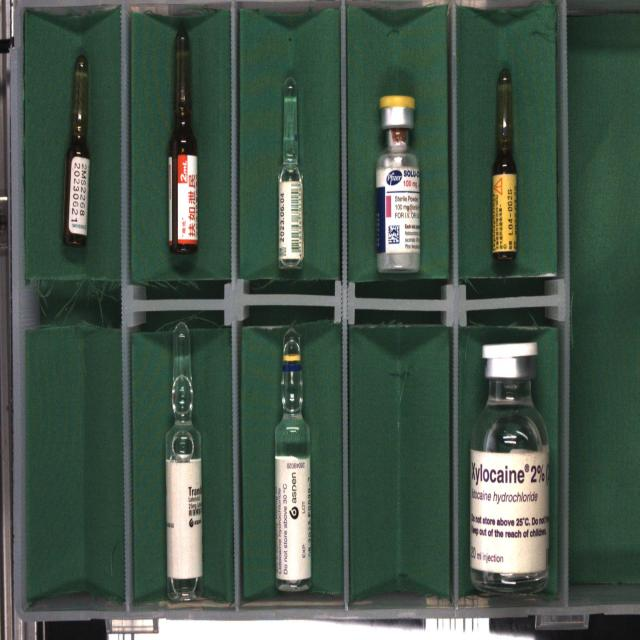Vials: (469, 341, 550, 593), (376, 95, 420, 273)
